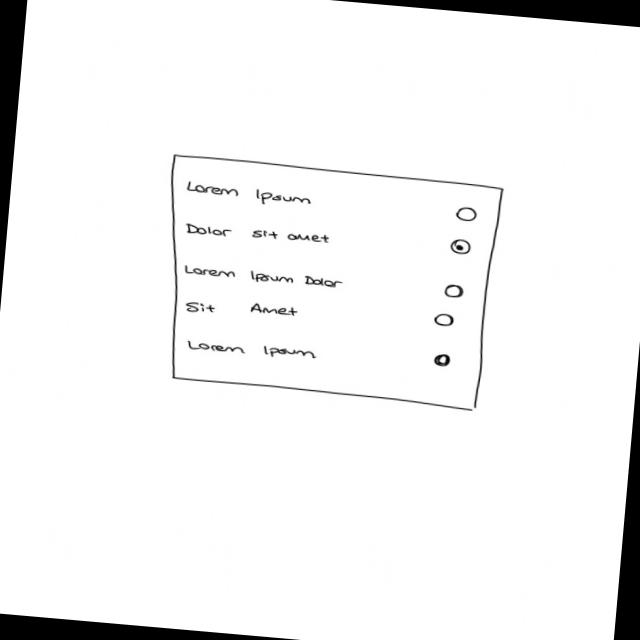container: (150, 151, 510, 414)
radio: (181, 178, 482, 225), (182, 214, 475, 262), (183, 290, 456, 337), (179, 259, 467, 303), (182, 330, 453, 376)
